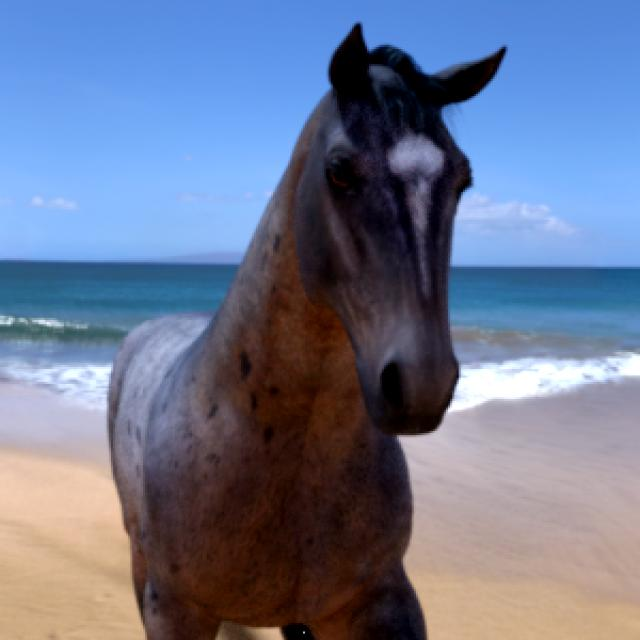horse: (110, 25, 504, 640)
